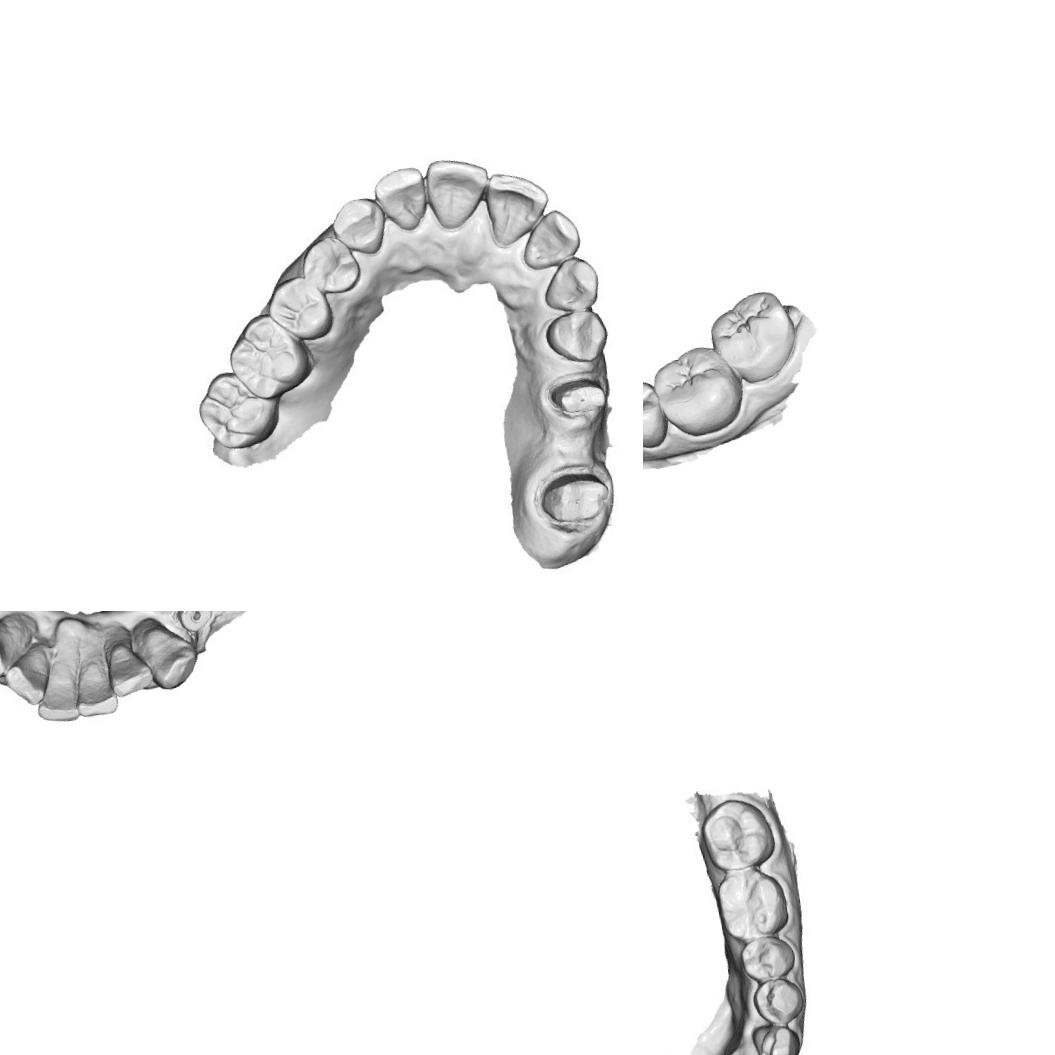canine: (135, 617, 204, 694), (539, 256, 605, 314), (334, 199, 387, 255), (0, 618, 31, 683), (753, 1021, 804, 1055)
crown: (538, 467, 617, 530), (548, 370, 616, 424)
implant: (180, 611, 214, 628)
incisor: (26, 642, 84, 726), (68, 638, 120, 722), (426, 158, 492, 224), (484, 172, 546, 240), (0, 646, 53, 713), (106, 632, 156, 702), (377, 166, 430, 228), (518, 212, 574, 266)
molar: (705, 285, 803, 390), (649, 340, 749, 442), (230, 315, 312, 397), (714, 864, 796, 945), (197, 371, 279, 449), (698, 797, 778, 873)
premolar: (542, 307, 612, 368), (273, 276, 333, 339), (303, 234, 364, 294), (734, 934, 800, 985), (750, 974, 807, 1027), (643, 376, 672, 454)
